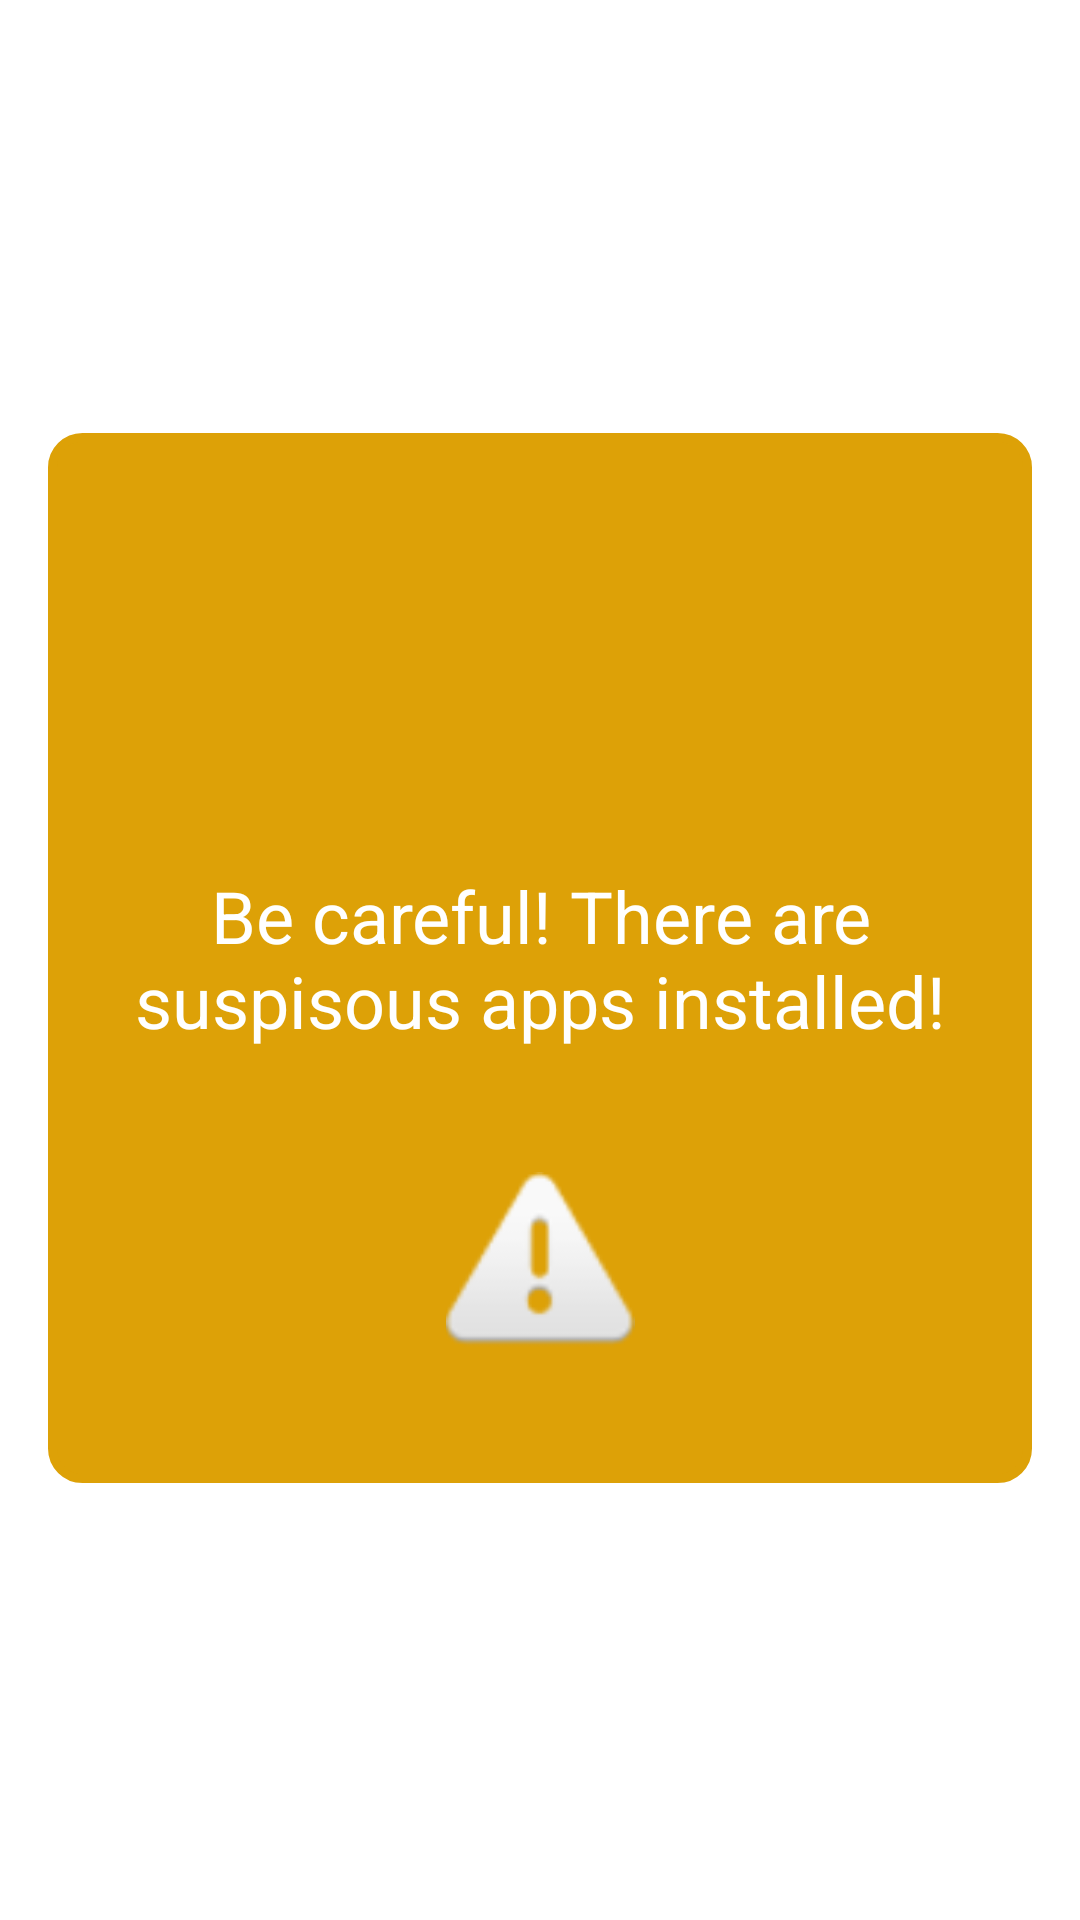

Icons on this 1080×1920 Android screen, each with its box as (x1, y1, x2, y2):
alert: (446, 1172, 635, 1344)
